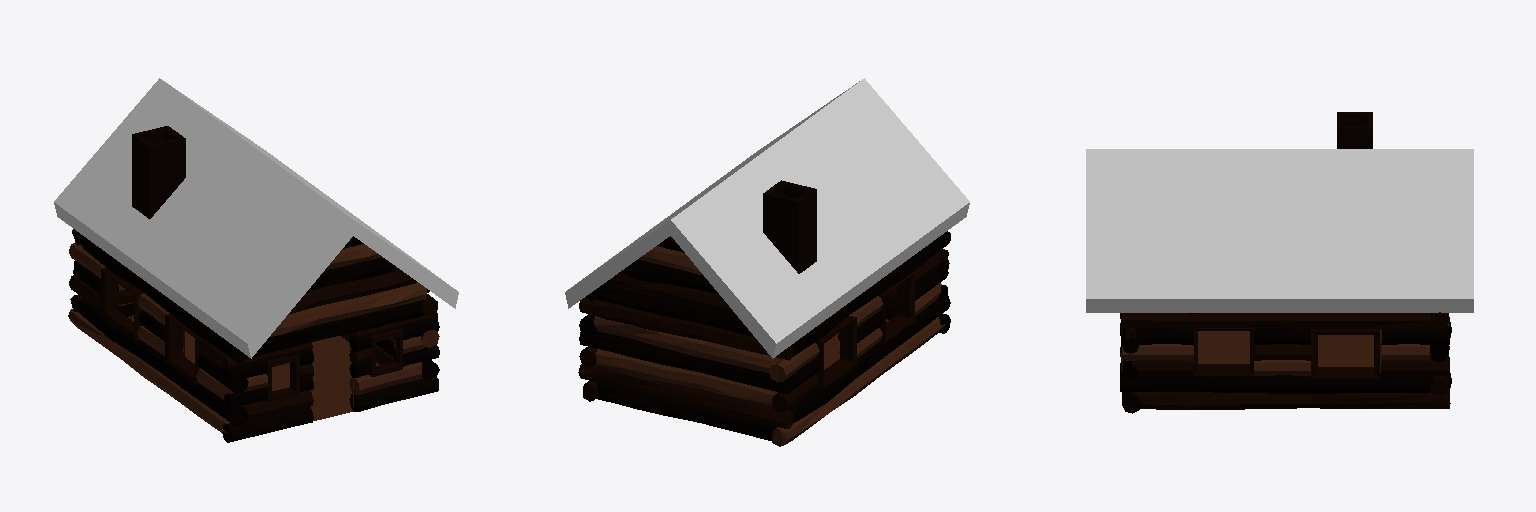
Rendered from cabana-roof-white.obj.
The picture shows the model from 3 angles: view 1: azimuth 30°, elevation 25°; view 2: azimuth 150°, elevation 25°; view 3: azimuth 270°, elevation 25°; orthographic projection.
Visible parts, largest first — view 1: Roof_Cube.005, Chamine_Cube.004, House_Cube.001, log_base.005_Cylinder.015, log_base.026_Cylinder.047, log_base.025_Cylinder.046, log_base.004_Cylinder.014, log_base.007_Cylinder.017, log_base.027_Cylinder.048, Frame_Window_Front_Cube.009, Frame_Win_Side2_Cube.014, log_to_cut.030_Cylinder.061 (+11 smaller); view 2: Roof_Cube.005, Chamine_Cube.004, log_base.009_Cylinder.028, log_base.011_Cylinder.030, log_base.013_Cylinder.032, log_base.010_Cylinder.029, log_base.012_Cylinder.031, log_base.008_Cylinder.027, log_base.005_Cylinder.015, log_base.004_Cylinder.014, log_base.014_Cylinder.033, log_base.007_Cylinder.017 (+7 smaller); view 3: Roof_Cube.005, log_base.001_Cylinder.003, log_base_Cylinder.001, log_base.003_Cylinder.005, House_Cube.001, Frame_Win_Side2_Cube.014, Chamine_Cube.004, Frame_Win_Side1_Cube.013, log_to_cut.007_Cylinder.012, log_to_cut.006_Cylinder.011, log_to_cut.002_Cylinder.007, log_to_cut_Cylinder.002 (+5 smaller).
Boxes of the visible parts, x1,y1,x2,y2 form: Roof_Cube.005: [54, 78, 458, 358]; Chamine_Cube.004: [132, 126, 185, 218]; House_Cube.001: [118, 284, 394, 420]; log_base.005_Cylinder.015: [77, 298, 249, 425]; log_base.026_Cylinder.047: [270, 282, 426, 336]; log_base.025_Cylinder.046: [248, 301, 423, 357]; log_base.004_Cylinder.014: [68, 309, 229, 433]; log_base.007_Cylinder.017: [79, 235, 247, 362]; log_base.027_Cylinder.048: [288, 270, 416, 314]; Frame_Window_Front_Cube.009: [265, 329, 402, 402]; Frame_Win_Side2_Cube.014: [101, 268, 143, 341]; log_to_cut.030_Cylinder.061: [223, 406, 313, 442]; Roof_Cube.005: [565, 78, 969, 358]; Chamine_Cube.004: [763, 180, 816, 273]; log_base.009_Cylinder.028: [578, 364, 793, 428]; log_base.011_Cylinder.030: [579, 331, 793, 393]; log_base.013_Cylinder.032: [579, 297, 793, 360]; log_base.010_Cylinder.029: [596, 349, 777, 404]; log_base.012_Cylinder.031: [594, 316, 780, 372]; log_base.008_Cylinder.027: [596, 382, 776, 440]; log_base.005_Cylinder.015: [789, 295, 950, 422]; log_base.004_Cylinder.014: [772, 317, 944, 446]; log_base.014_Cylinder.033: [596, 283, 753, 336]; log_base.007_Cylinder.017: [792, 231, 950, 356]; Roof_Cube.005: [1086, 149, 1473, 312]; log_base.001_Cylinder.003: [1120, 373, 1430, 393]; log_base_Cylinder.001: [1133, 390, 1450, 409]; log_base.003_Cylinder.005: [1121, 313, 1430, 328]; House_Cube.001: [1198, 329, 1381, 372]; Frame_Win_Side2_Cube.014: [1311, 329, 1379, 378]; Chamine_Cube.004: [1337, 112, 1372, 148]; Frame_Win_Side1_Cube.013: [1193, 328, 1253, 375]; log_to_cut.007_Cylinder.012: [1381, 356, 1449, 375]; log_to_cut.006_Cylinder.011: [1381, 326, 1449, 344]; log_to_cut.002_Cylinder.007: [1121, 344, 1193, 360]; log_to_cut_Cylinder.002: [1132, 328, 1193, 344].
Bounding box in the file's own units: 2.97 × 2.83 × 4.65.